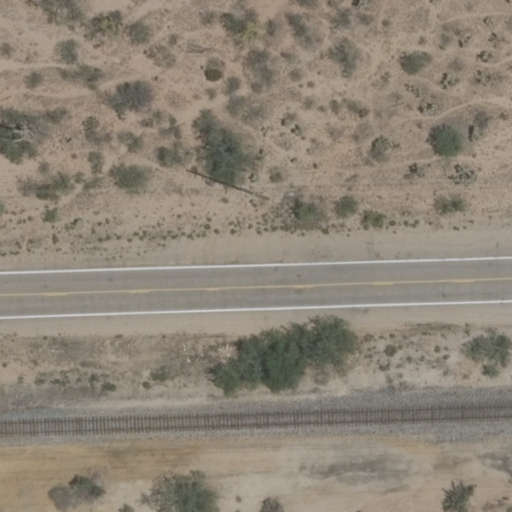DT: (183, 171, 271, 201)
